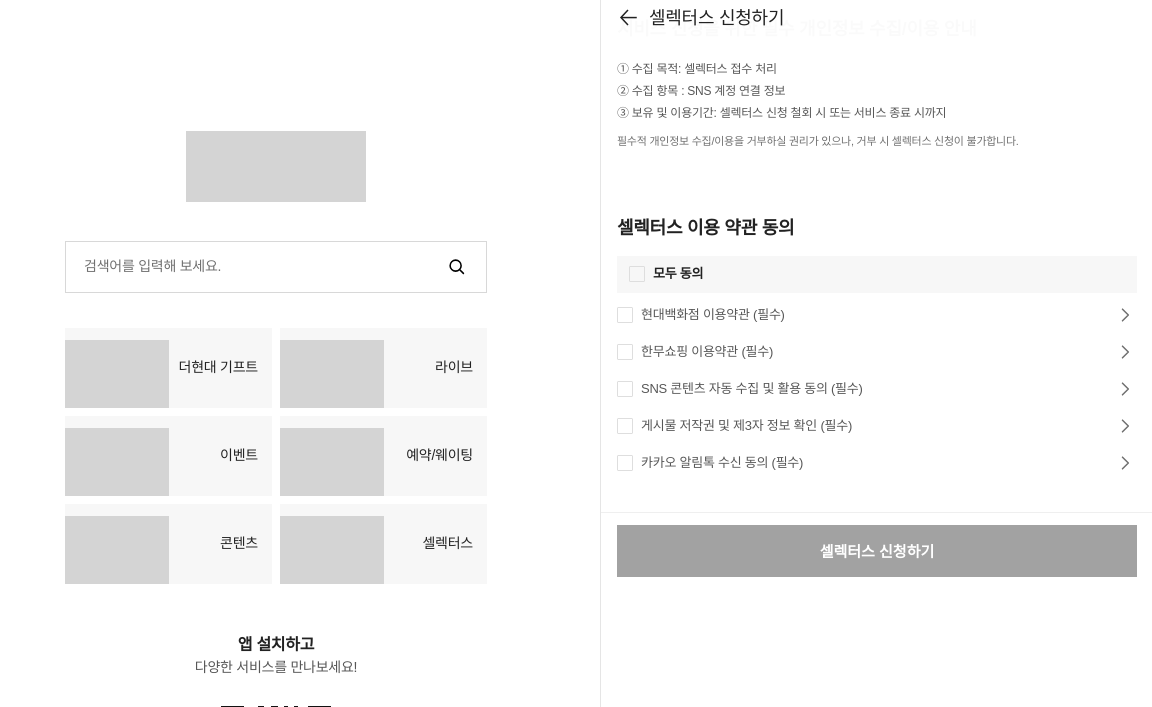
Test: apply flow › opens the complete 한무쇼핑 이용약관 document
This screenshot has width=1152, height=707.
(page scrolled)
Click the button named "한무쇼핑 이용약관 내용 보기": [1123, 352] box 1109,334 -> 1137,371
(page scrolled)
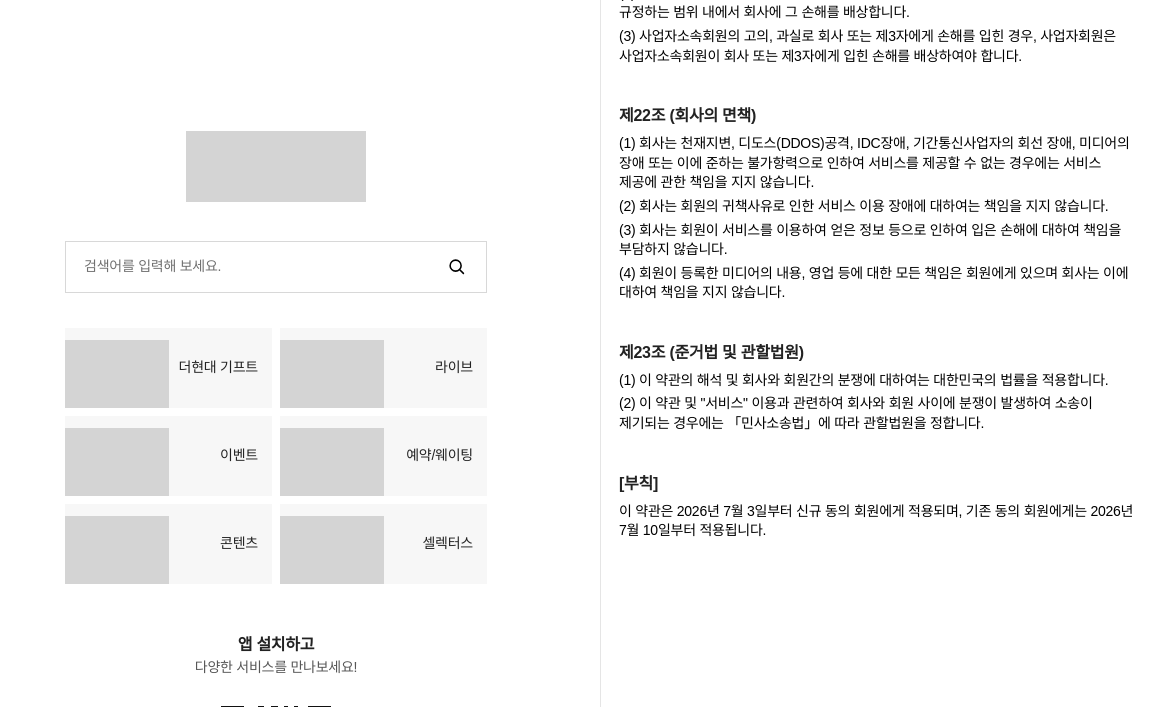
Check: the heading "제23조 (준거법 및 관할법원)" is shown, box 619,344 -> 804,361
